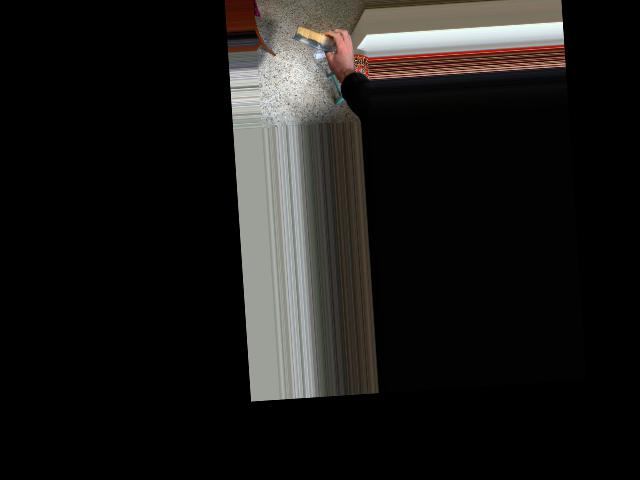cheese: (288, 7, 358, 65)
